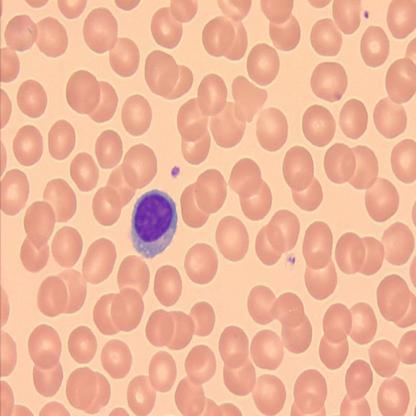Atypical lymphocyte: (128, 185, 182, 264)
